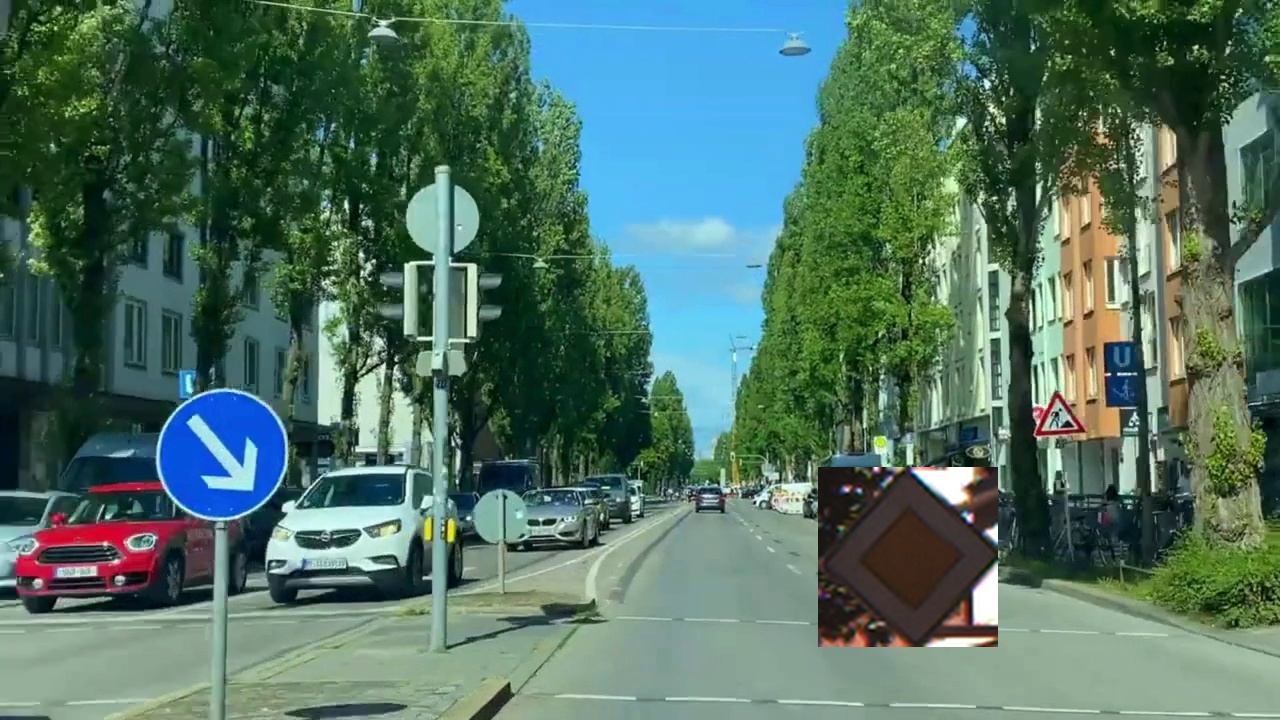Priority road: (818, 467, 998, 647)
